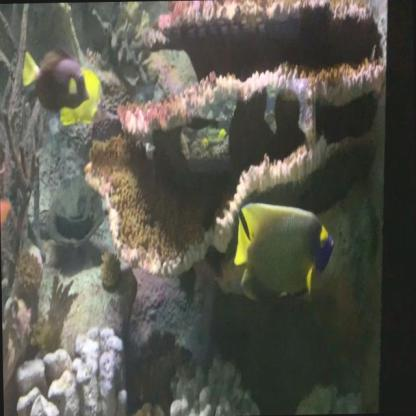fish: (231, 198, 337, 304), (21, 46, 100, 120), (59, 66, 109, 126), (217, 127, 226, 142), (202, 136, 209, 148)
